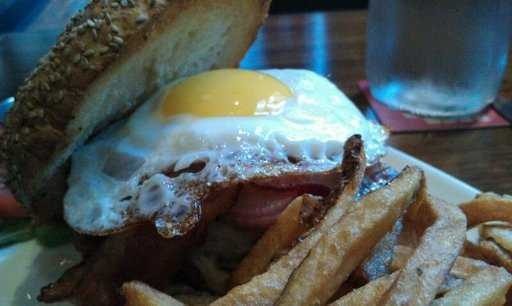hamburger: (1, 1, 312, 284)
